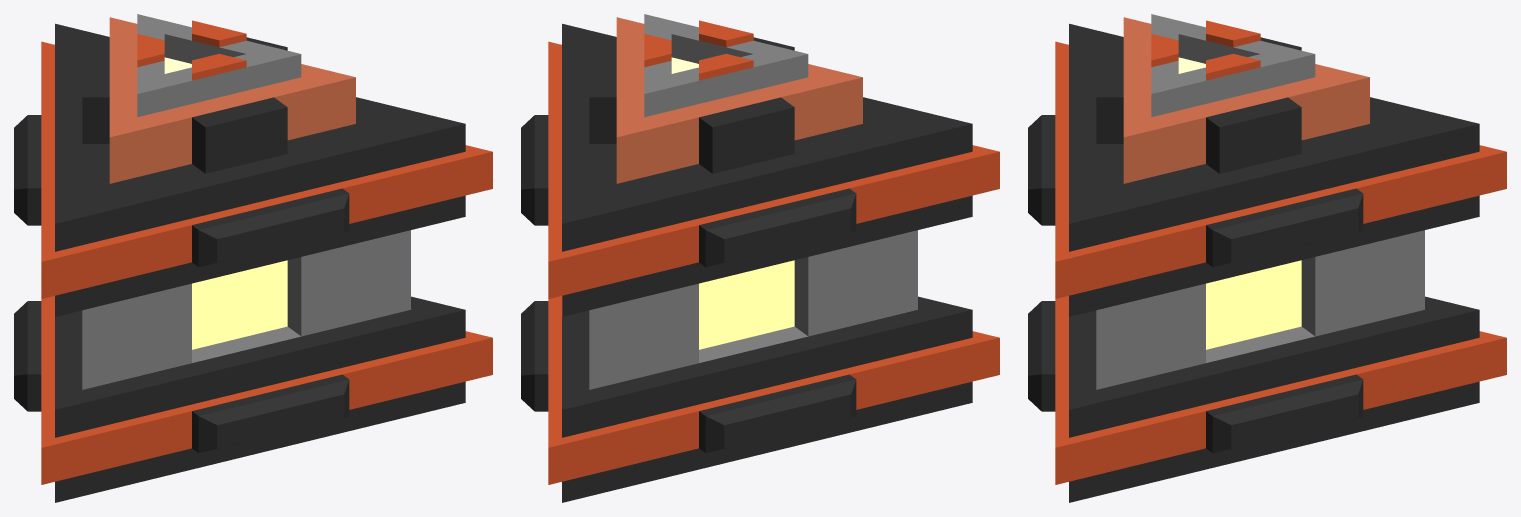
The model's file is StemBeacon.fbx.
The picture shows the model from 3 angles, left to right: view 1: azimuth 30°, elevation 25°; view 2: azimuth 150°, elevation 25°; view 3: azimuth 270°, elevation 25°; orthographic projection.
Parts seen in each view (by area): view 1: Cylinder; view 2: Cylinder; view 3: Cylinder.
Boxes of the visible parts, x1,y1,x2,y2 form: Cylinder: (14, 14, 492, 502); Cylinder: (521, 14, 999, 502); Cylinder: (1028, 14, 1506, 502).
Size of the model in its own units: 305 by 230 by 280.
